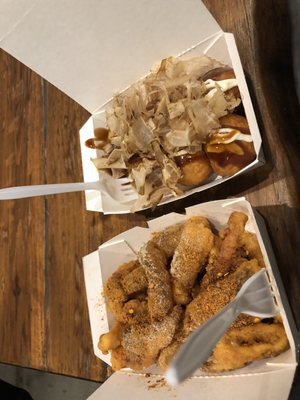curry: (1, 5, 298, 397)
